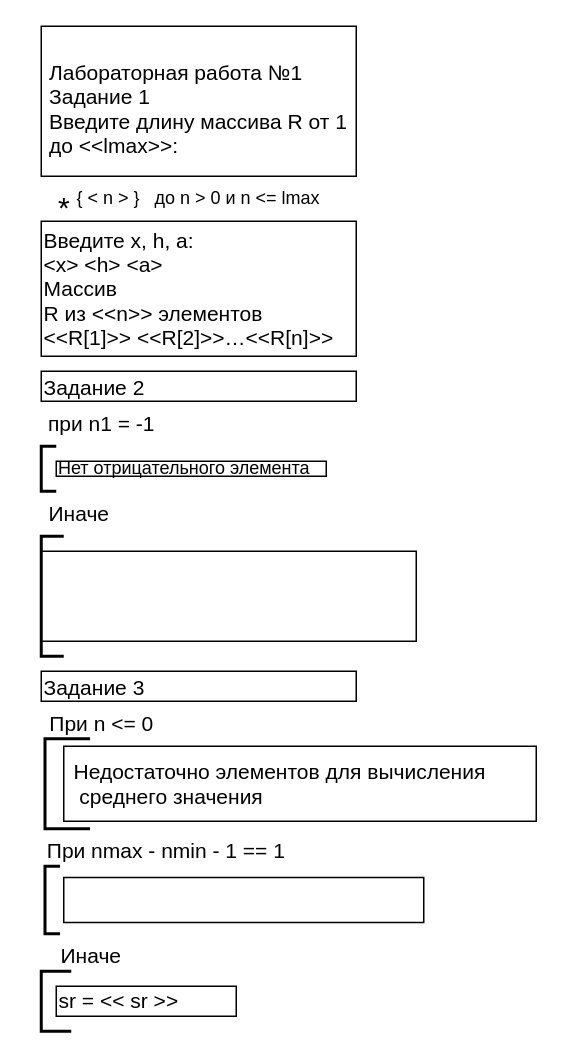
The diagram is 563 pixels wide and 1059 high, and some of its shapes have lost their labels. Here are the shapes that lost their labels. From the top down, the centre of each, then its label:
pixel 51 595: Массив R из <<new_size >> элементов << R [1]>> << R [2]>>…<< R [ new_size ]>>
pixel 243 899: Нет среднего значения
